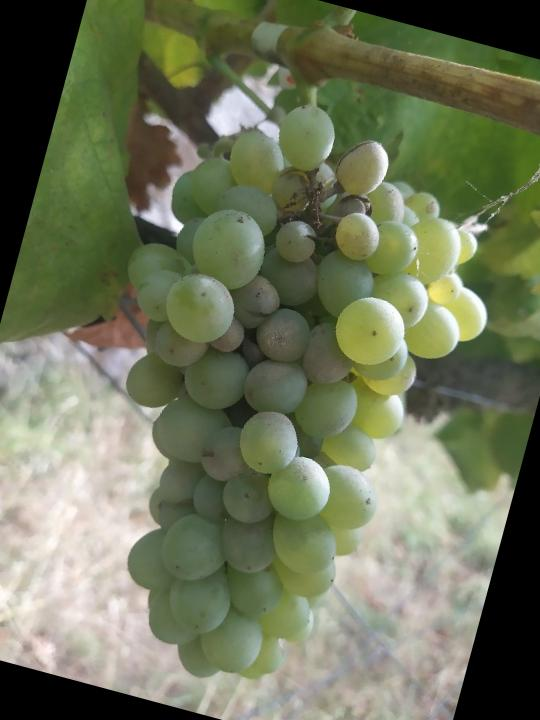grape: (26, 69, 536, 720)
